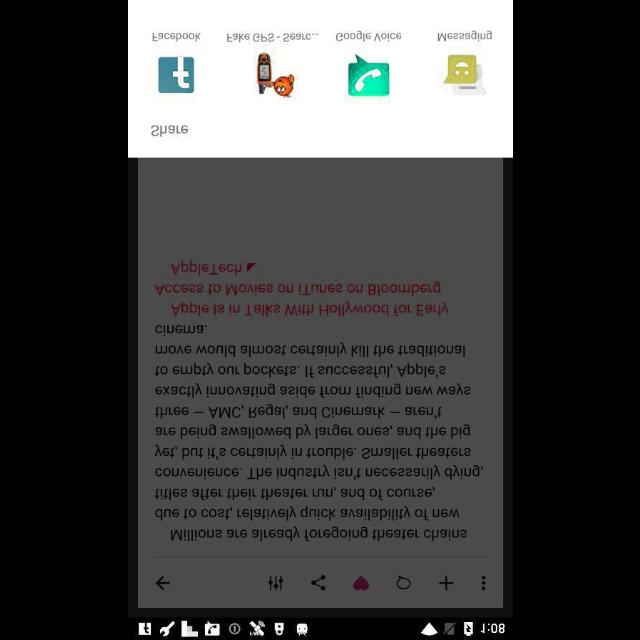icon: (348, 54, 390, 96), (158, 56, 194, 94), (154, 572, 170, 590), (310, 575, 326, 591), (353, 576, 369, 590), (439, 576, 453, 590), (396, 575, 410, 589), (269, 576, 283, 590), (481, 576, 485, 590)
image: (442, 54, 486, 96), (256, 52, 294, 98)
panel: (128, 1, 512, 158)
text: (153, 324, 483, 540), (153, 282, 449, 316), (170, 260, 242, 276), (227, 33, 319, 43), (336, 30, 400, 42), (436, 30, 494, 42), (150, 124, 188, 138), (152, 32, 200, 42)
uppertaskbar: (128, 617, 512, 639)
